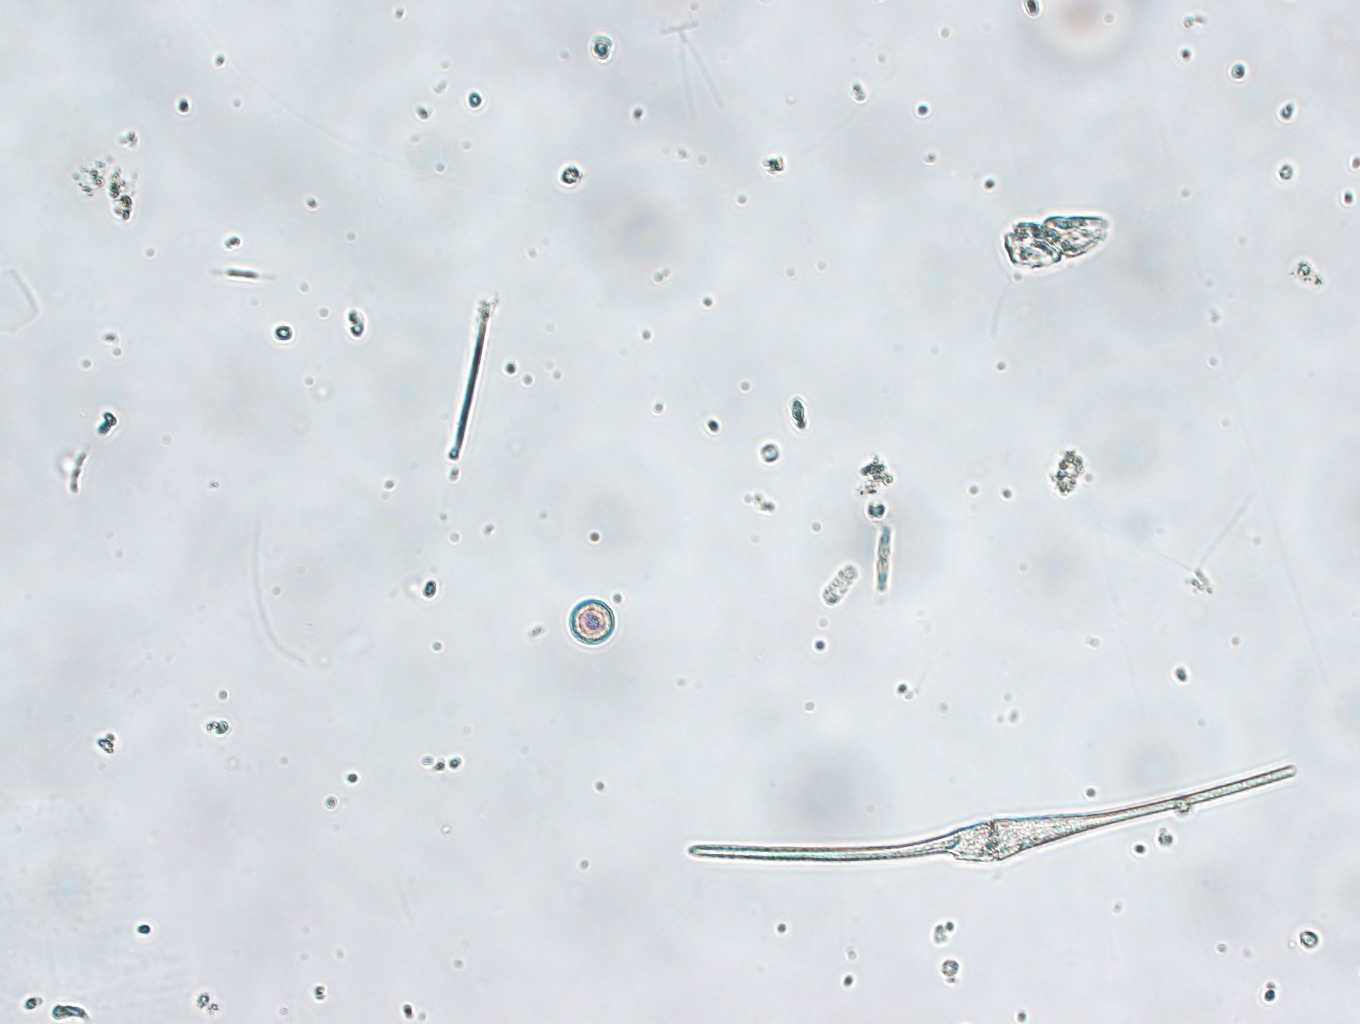ceratium fusus: (678, 749, 1301, 879)
